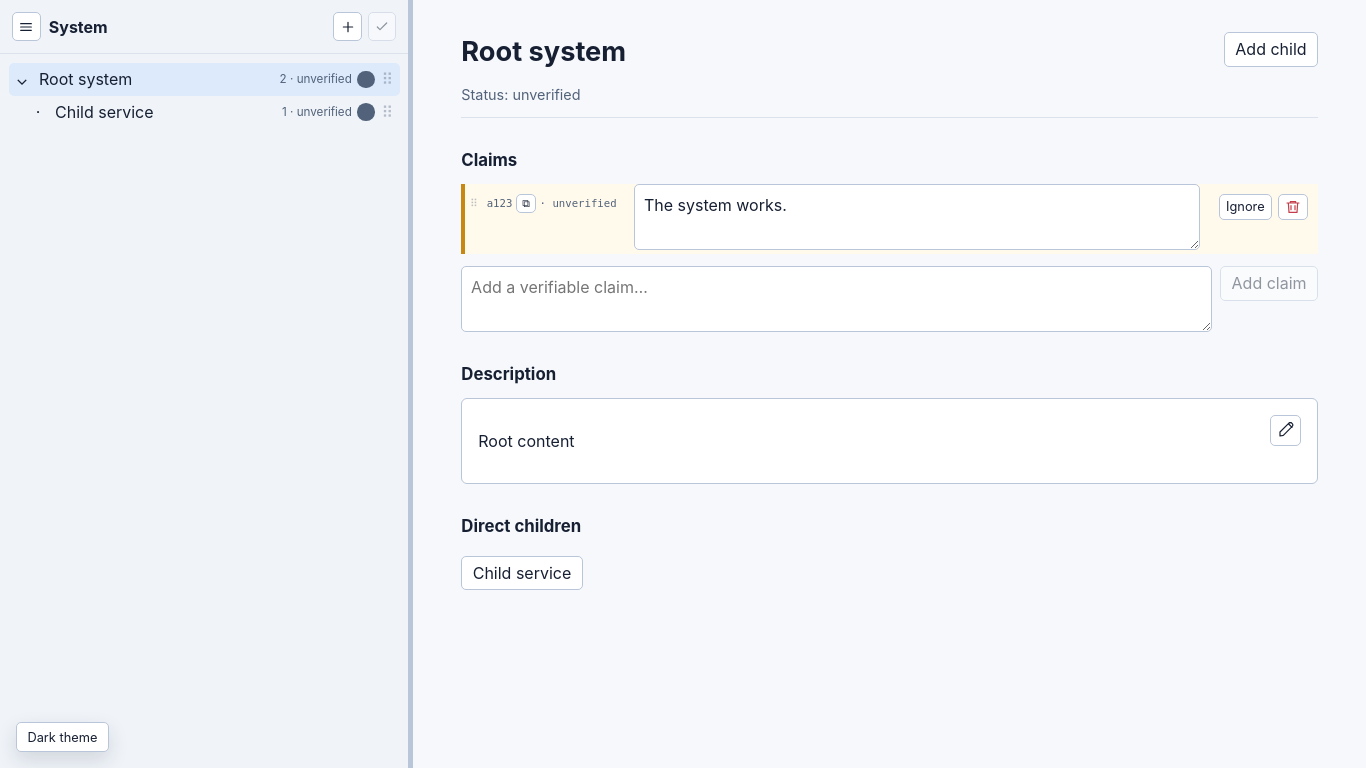
it: workspace interface specification › 73cd 96d1 deletes a subsystem after warning that its claims move to the parent
The image size is (1366, 768).
Expected: the field showing "Root system" is shown, x1=461 y1=32 x2=1208 y2=71
Click the button "Child service": (522, 573) x1=461 y1=556 x2=583 y2=590
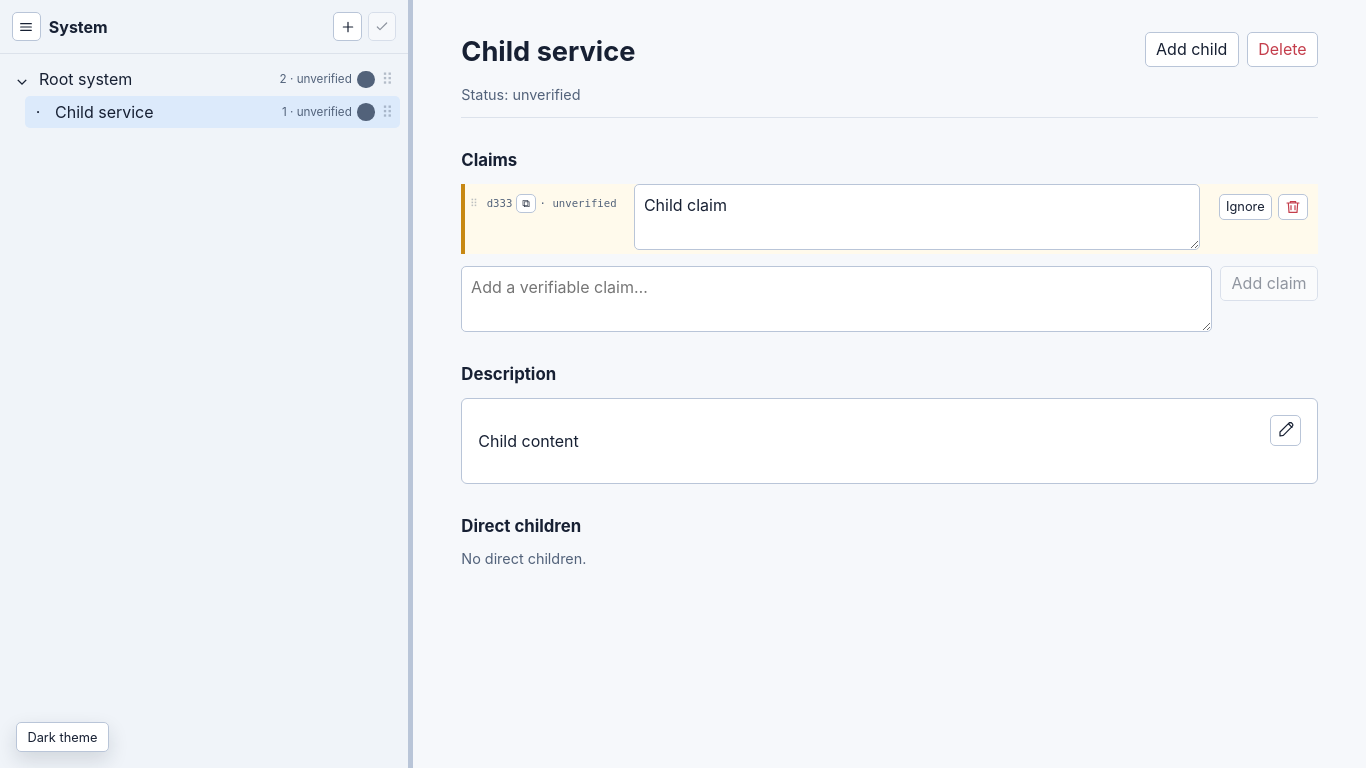
Click the button "Delete": (1282, 49) x1=1247 y1=32 x2=1318 y2=67
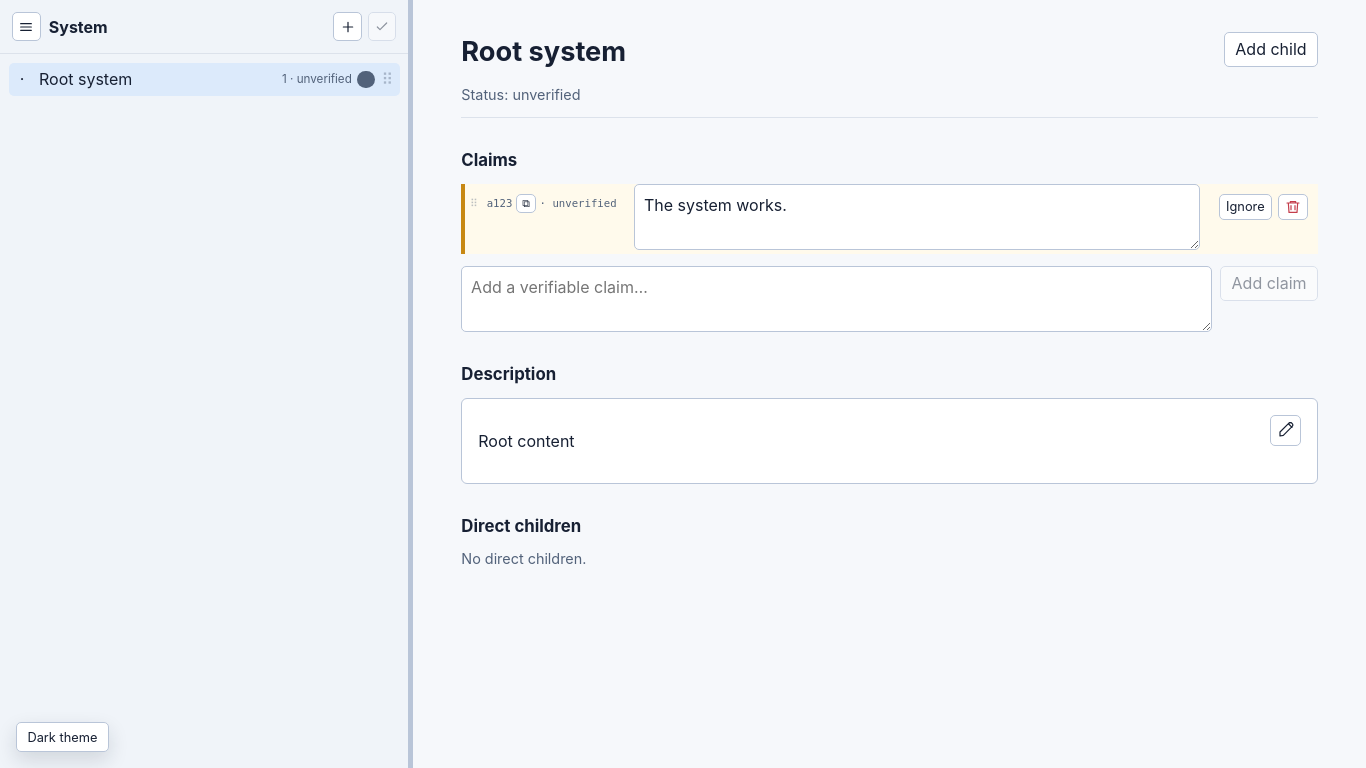
Result: the field showing "Root system" is shown at x1=461 y1=32 x2=1208 y2=71
